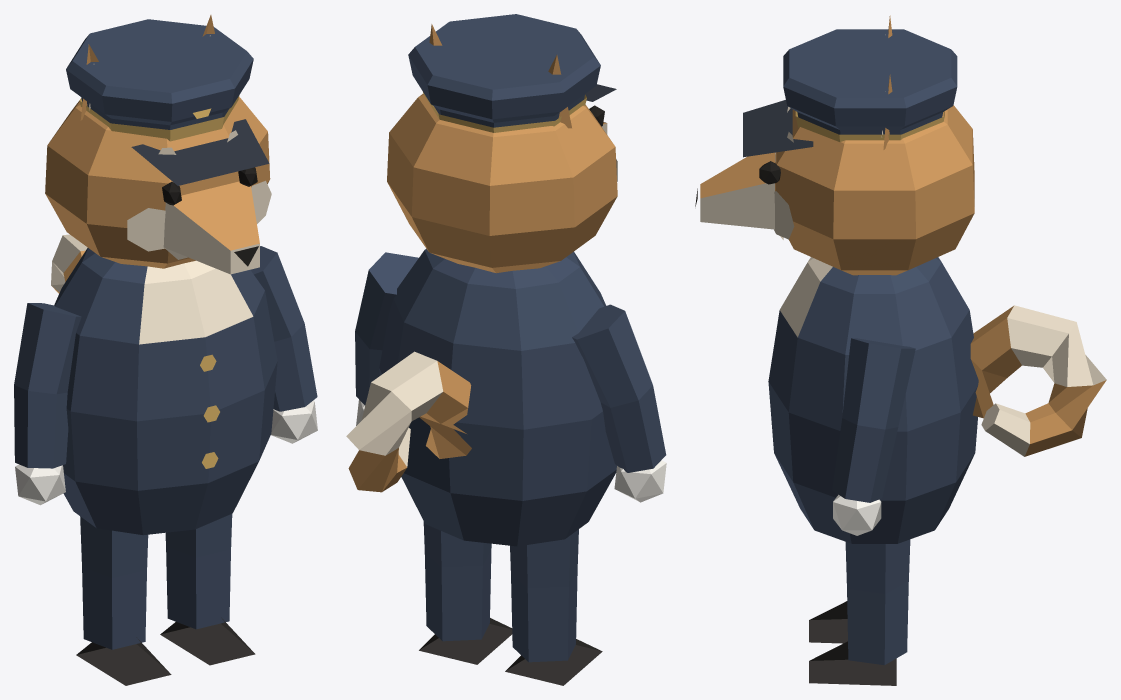
The model's file is shiba.glb.
3 views of the same model, side by side, from view 1: azimuth 30°, elevation 25°; view 2: azimuth 150°, elevation 25°; view 3: azimuth 270°, elevation 25° (orthographic). The views are drawn at different scales.
Parts seen in each view (by area): view 1: body, head, cap, arm_L, leg_L, leg_R, arm_R, tail, buttons; view 2: body, head, cap, tail, arm_L, leg_L, leg_R, arm_R; view 3: body, head, cap, tail, arm_R, leg_R, leg_L.
Boxes of the visible parts, x1,y1,x2,y2 form: body: [54, 248, 277, 535]; head: [45, 97, 271, 274]; cap: [66, 19, 269, 185]; arm_L: [14, 303, 81, 505]; leg_L: [76, 516, 171, 685]; leg_R: [160, 514, 255, 665]; arm_R: [250, 246, 317, 443]; tail: [51, 234, 87, 293]; buttons: [200, 354, 219, 468]; body: [379, 248, 616, 546]; head: [387, 94, 617, 273]; cap: [408, 14, 616, 132]; tail: [346, 351, 471, 492]; arm_L: [572, 304, 666, 502]; leg_L: [505, 529, 602, 685]; leg_R: [419, 521, 512, 664]; arm_R: [355, 252, 418, 425]; body: [768, 257, 978, 543]; head: [695, 105, 974, 275]; cap: [743, 29, 957, 157]; tail: [970, 305, 1106, 456]; arm_R: [832, 338, 915, 535]; leg_R: [809, 539, 910, 685]; leg_L: [809, 601, 847, 643].
Bounding box in the file's own units: 0.0776 × 0.153 × 0.0939.
